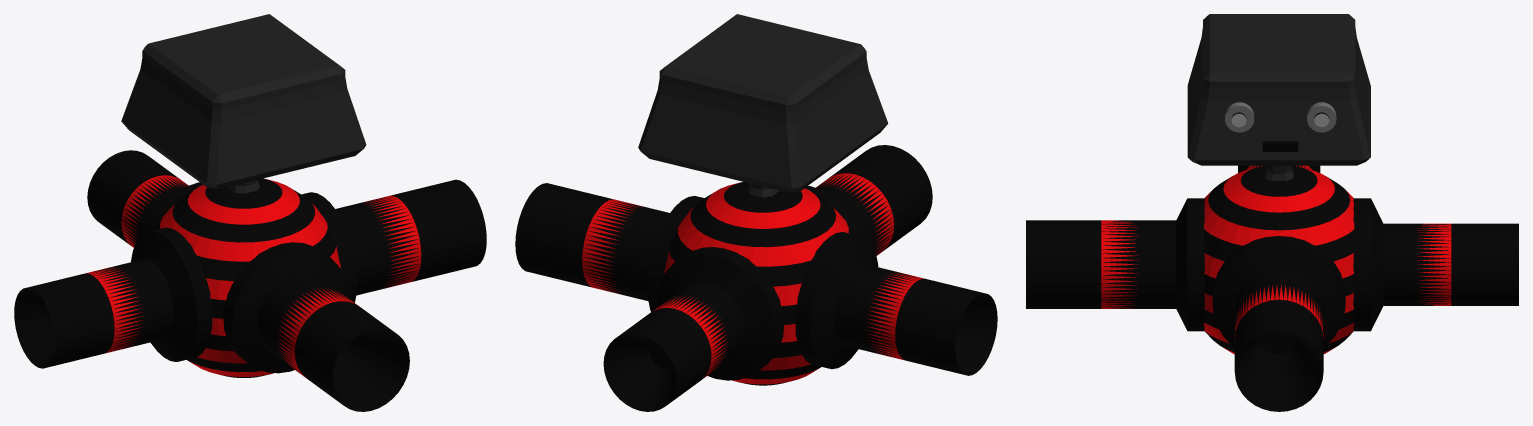
The model's file is Robot_Shooter.fbx.
3 views of the same model, side by side, from view 1: azimuth 30°, elevation 25°; view 2: azimuth 150°, elevation 25°; view 3: azimuth 270°, elevation 25° (orthographic). The views are drawn at different scales.
Parts seen in each view (by area): view 1: Cube; view 2: Cube; view 3: Cube.
Part boxes in pixels (x1,y1,x2,y2): Cube: (14,14,486,411); Cube: (515,14,997,411); Cube: (1026,14,1518,411).
Size of the model in its own units: 491 by 343 by 491.
